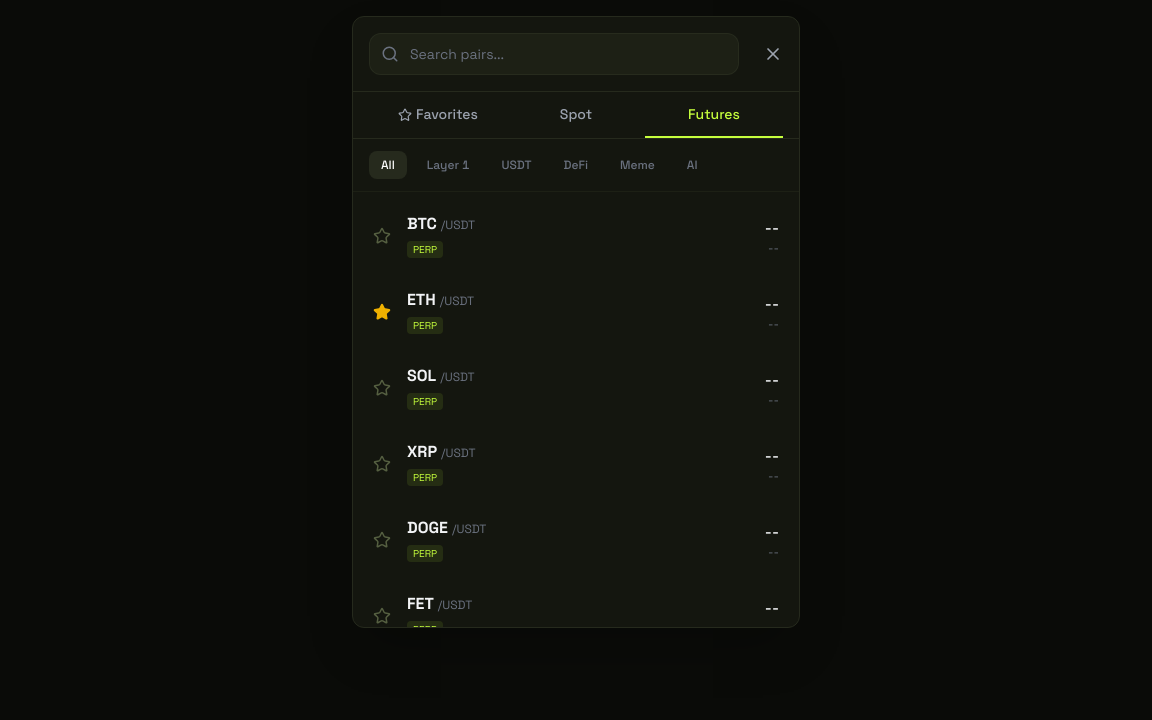
MarketSelector › 12. Favorites tab & 13. Spot tab & 14. Futures tab
// Click Spot tab
Click the button "Spot" at [576, 115], box [507,92,645,138]
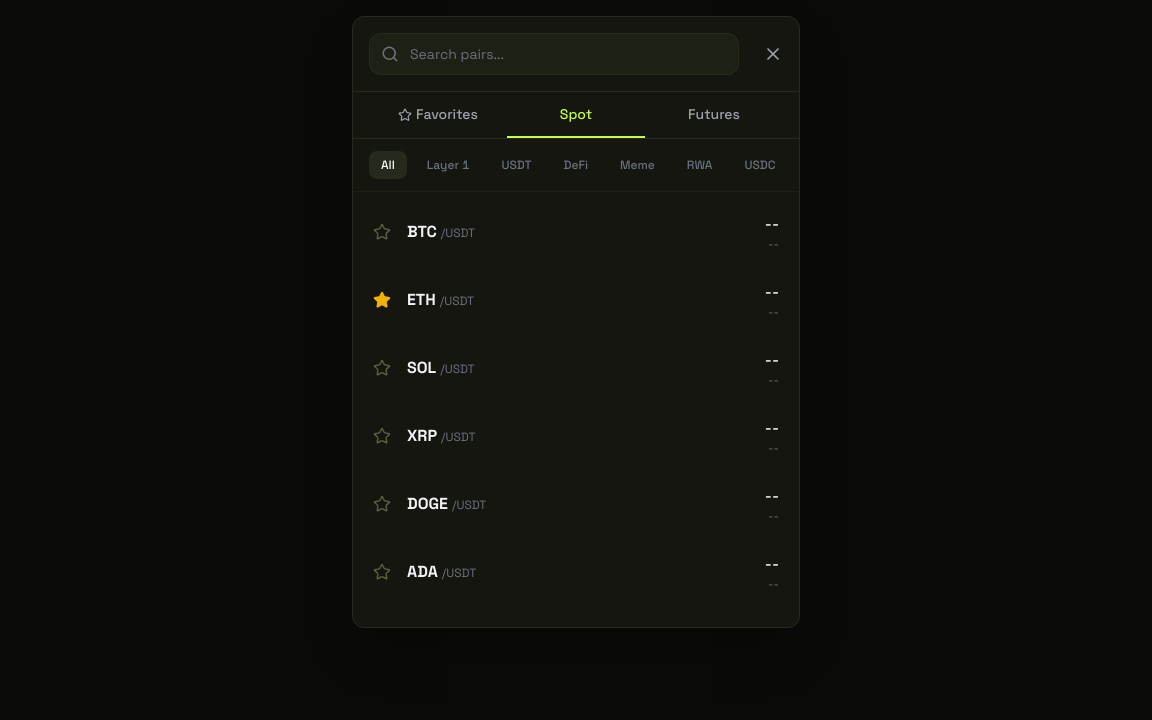
// Click Favorites tab
Click the button "Favorites" at [438, 115], box [369,92,507,138]
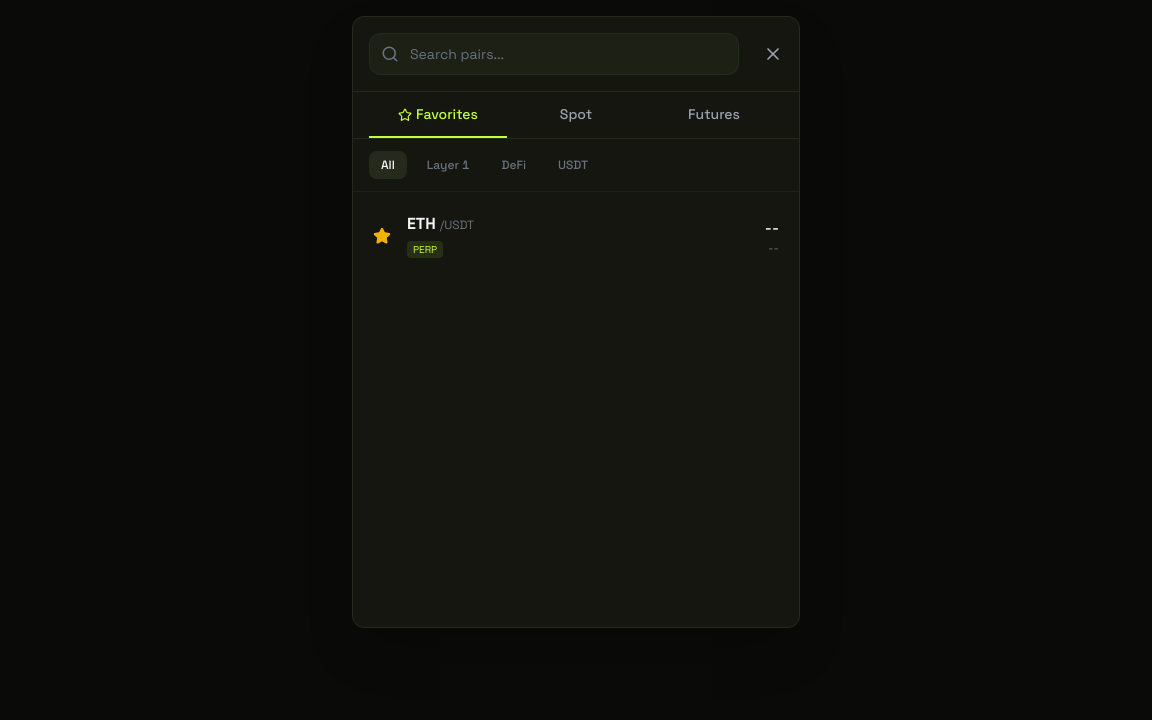
Expected: the text "ETH" is shown, [407,212,436,236]
Result: the text "BTC" is gone
// Click Futures tab
Click the button "Futures" at [714, 115], box [645,92,783,138]
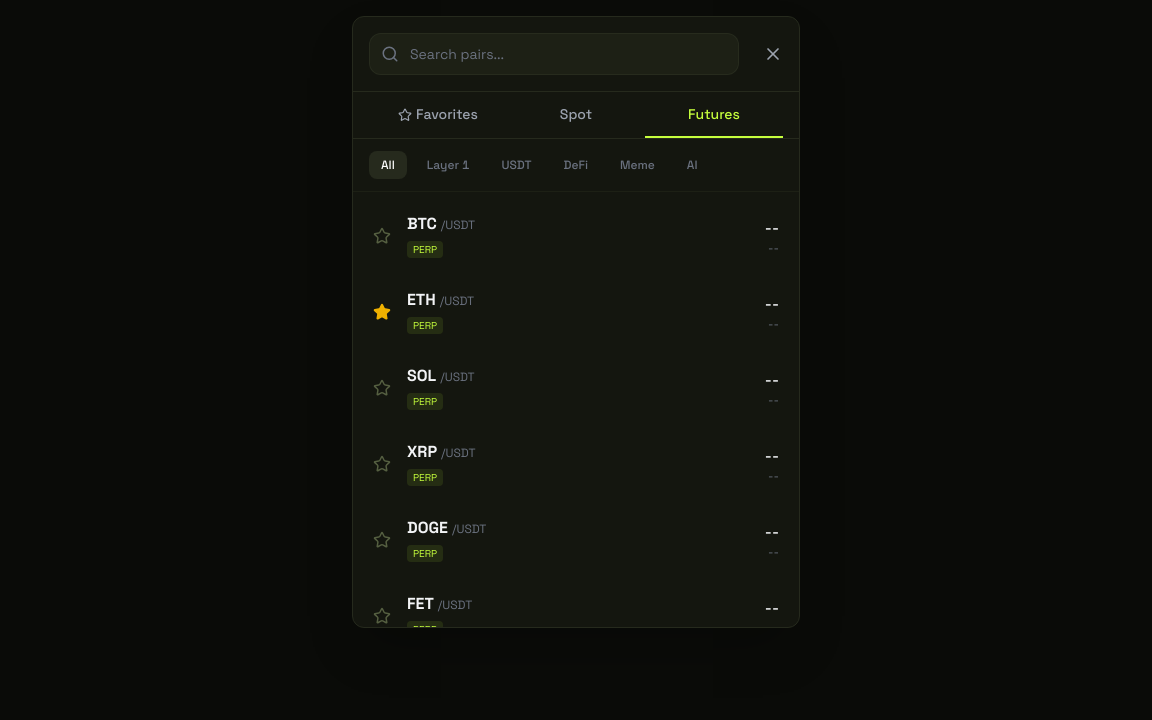
Result: the text "BTC" is shown at [407,212,437,236]
